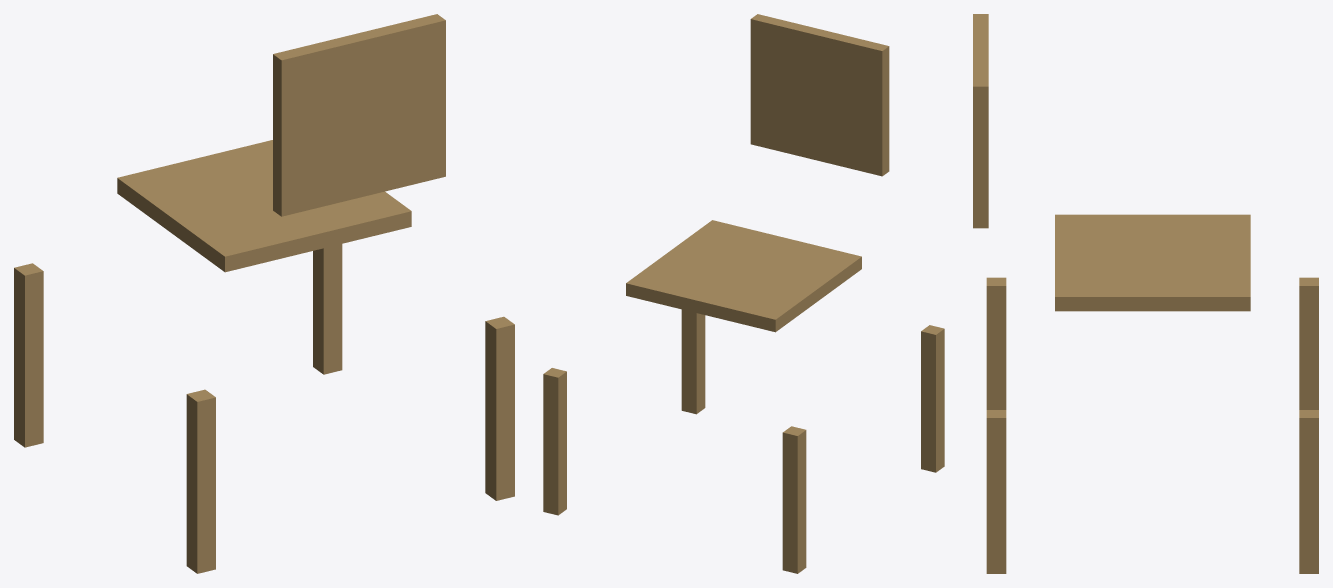
The model's file is wooden_chair_2.glb.
The picture shows the model from 3 angles, left to right: view 1: azimuth 30°, elevation 25°; view 2: azimuth 150°, elevation 25°; view 3: azimuth 270°, elevation 25°; orthographic projection. The views are drawn at different scales.
Visible parts, largest first — view 1: wooden_chair_2_back, wooden_chair_2_seat, wooden_chair_2_leg.002, wooden_chair_2_leg, wooden_chair_2_leg.001, wooden_chair_2_leg.003; view 2: wooden_chair_2_back, wooden_chair_2_seat, wooden_chair_2_leg.002, wooden_chair_2_leg, wooden_chair_2_leg.003, wooden_chair_2_leg.001; view 3: wooden_chair_2_seat, wooden_chair_2_leg.001, wooden_chair_2_back, wooden_chair_2_leg.003, wooden_chair_2_leg, wooden_chair_2_leg.002.
Boxes of the visible parts, x1,y1,x2,y2 form: wooden_chair_2_back: (273,14,445,216); wooden_chair_2_seat: (117,140,411,272); wooden_chair_2_leg.002: (14,263,43,447); wooden_chair_2_leg: (186,389,215,573); wooden_chair_2_leg.001: (485,316,514,500); wooden_chair_2_leg.003: (313,244,342,374); wooden_chair_2_back: (750,14,889,176); wooden_chair_2_seat: (626,220,861,332); wooden_chair_2_leg.002: (782,426,806,573); wooden_chair_2_leg: (921,325,944,472); wooden_chair_2_leg.003: (543,368,566,515); wooden_chair_2_leg.001: (681,309,705,414); wooden_chair_2_seat: (1055,214,1250,311); wooden_chair_2_leg.001: (986,410,1006,573); wooden_chair_2_back: (973,14,988,228); wooden_chair_2_leg.003: (1299,410,1318,573); wooden_chair_2_leg: (986,277,1006,409); wooden_chair_2_leg.002: (1299,277,1318,409).
Size of the model in its own units: 0.425 by 0.64 by 0.4425.
